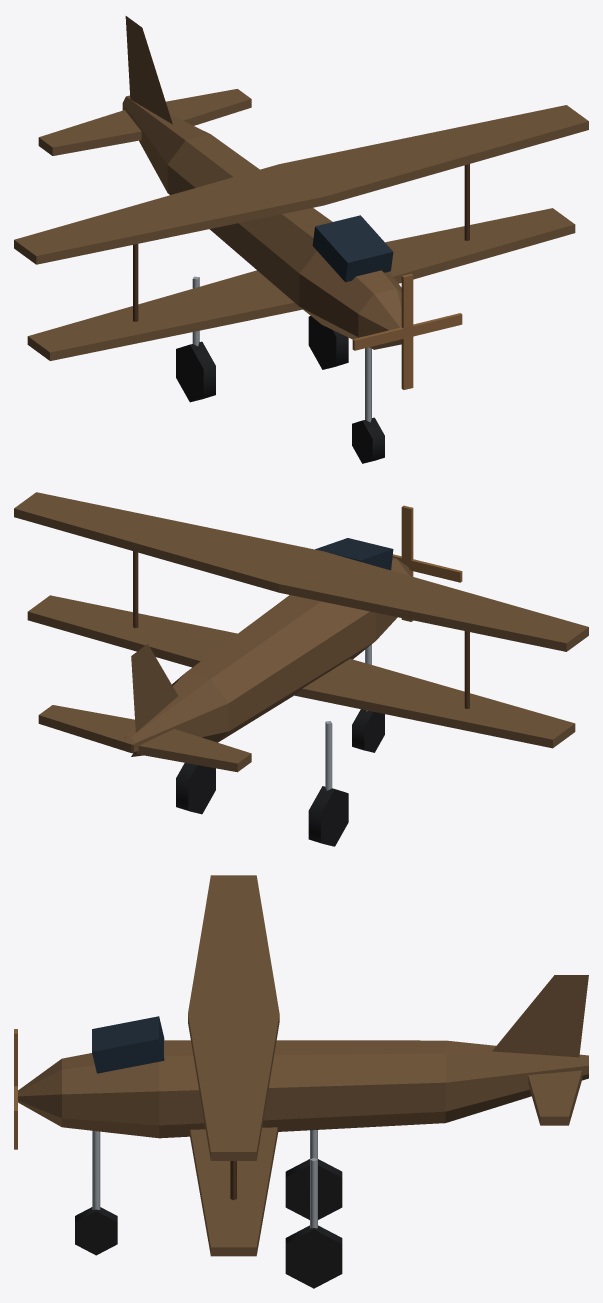
File: veh_air_fighter_a05.glb
3 renders of one model, top to bottom at view 1: azimuth 30°, elevation 25°; view 2: azimuth 150°, elevation 25°; view 3: azimuth 270°, elevation 25°, orthographic. The views are drawn at different scales.
Visible parts, largest first — view 1: body, propeller_0, gear_1, gear_0, gear_2; view 2: body, gear_1, gear_2, propeller_0, gear_0; view 3: body, gear_2, gear_1, gear_0.
Boxes of the visible parts, bbox=[...] form: body: bbox=[14, 16, 588, 360]; propeller_0: bbox=[352, 273, 462, 389]; gear_1: bbox=[176, 276, 215, 402]; gear_0: bbox=[352, 347, 384, 463]; gear_2: bbox=[308, 316, 348, 369]; body: bbox=[14, 492, 588, 772]; gear_1: bbox=[308, 721, 348, 846]; gear_2: bbox=[176, 763, 215, 814]; propeller_0: bbox=[392, 505, 462, 621]; gear_0: bbox=[352, 644, 384, 752]; body: bbox=[18, 875, 588, 1256]; gear_2: bbox=[285, 1158, 342, 1288]; gear_1: bbox=[285, 1130, 342, 1219]; gear_0: bbox=[75, 1130, 117, 1255].
Size of what is drawn, in the model's own units: 8 by 3.76 by 7.03.
